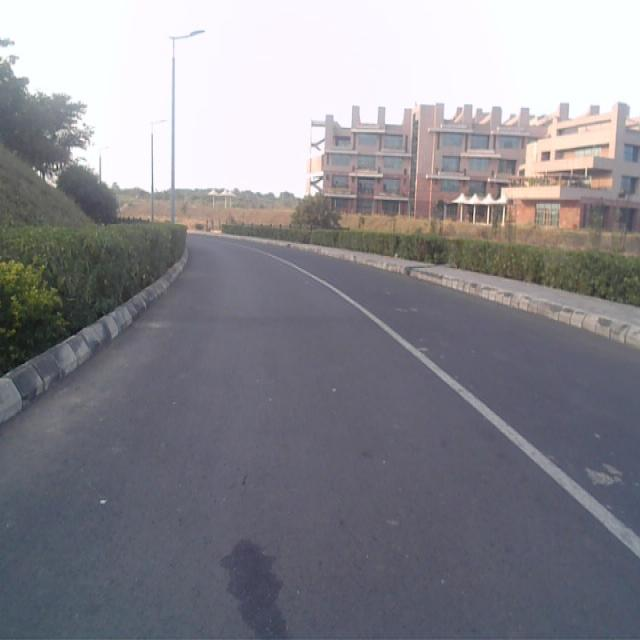lane: (0, 241, 640, 640)
